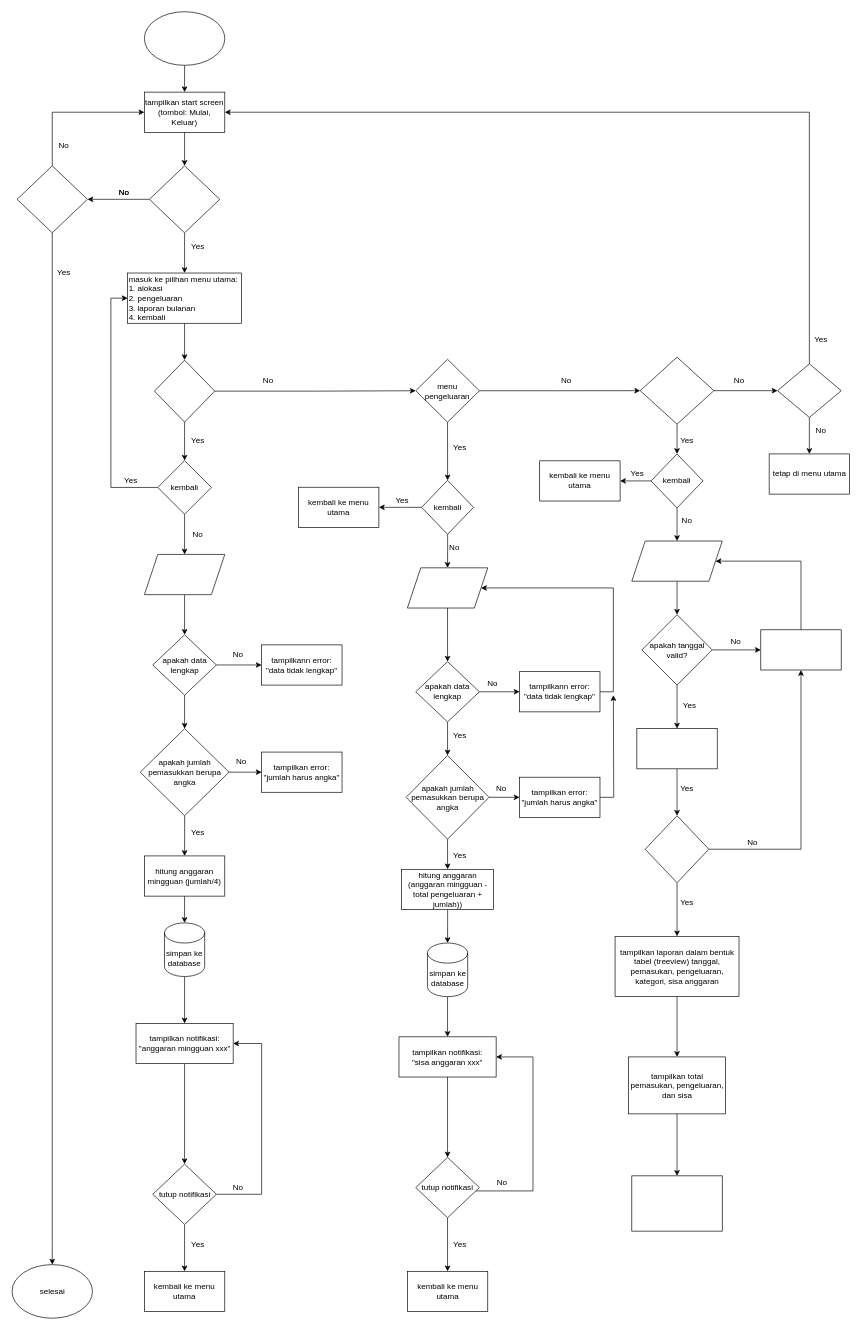
This 861x1330 diagram has some shape labels left out. The shapes that lost their labels are listed below. From the top down, each one's centre as x and y in pixels, then its label:
the point at 184,38: mulai
the point at 51,199: apaka memilih keluar?
the point at 184,199: apaka memilih memulai?
the point at 184,390: menu alokasi
the point at 677,390: menu lapooran bulanan
the point at 809,390: menu kembali
the point at 184,574: input: tanggal, pemasukan, keterangan
the point at 676,560: input data: tanggal (untuk filter)
the point at 447,587: input: tanggal, pengeluaran, keterangan
the point at 800,649: tidak memunculkan anggaran
the point at 676,748: filter data berdasarkan tanggal yang anda pilih
the point at 677,849: apakah data ditemukan?
the point at 676,1203: tetap di menu laporan bulanan
